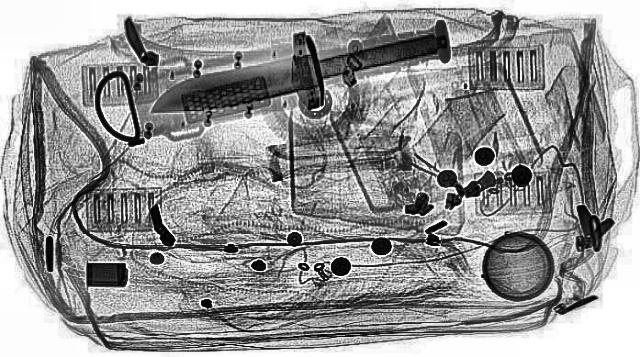Knife: (106, 0, 486, 144)
